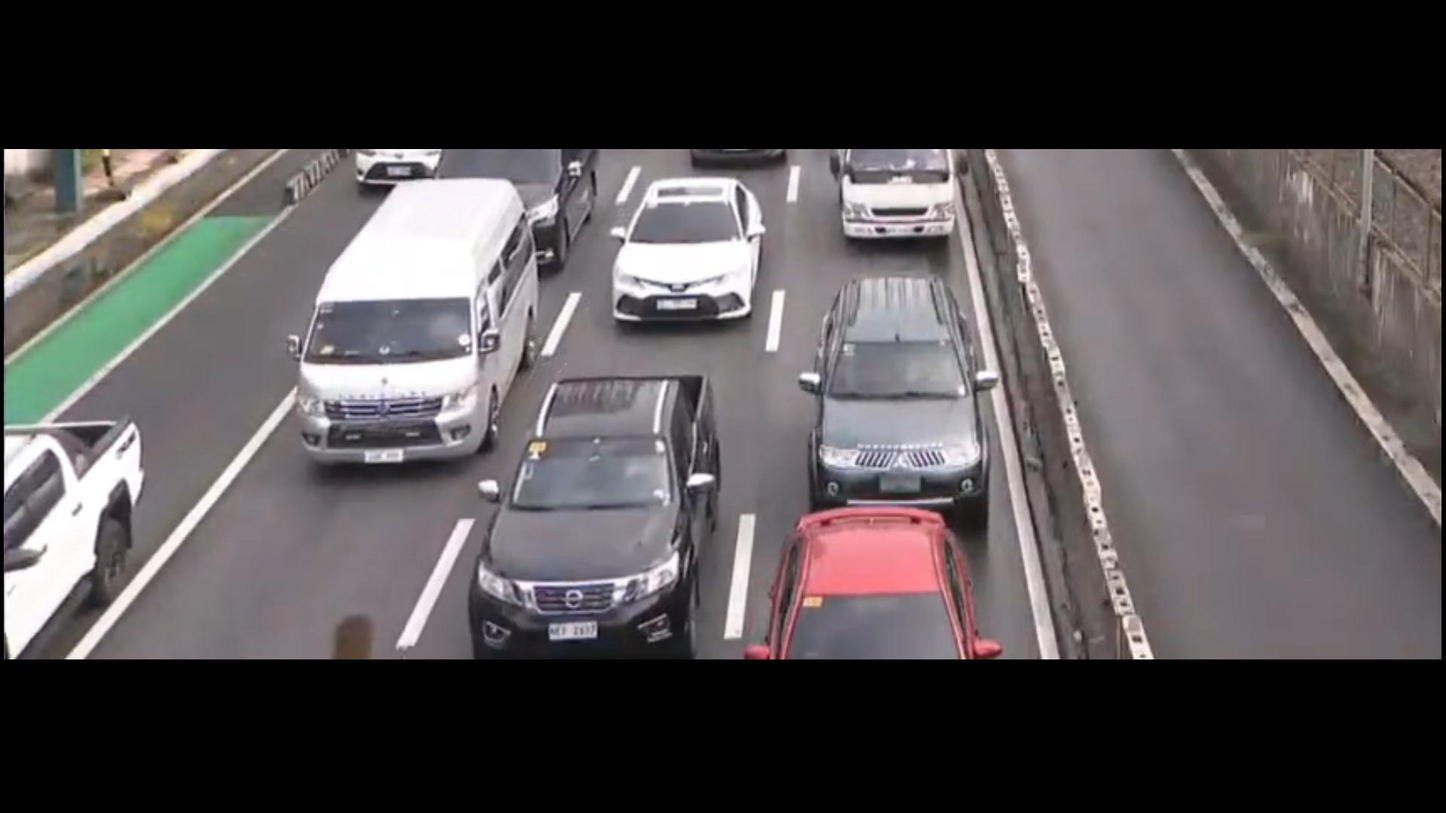SUV: (471, 376, 715, 649), (804, 282, 987, 516), (0, 420, 147, 651)
Sedan: (744, 506, 1004, 664), (606, 177, 768, 329)
Truck: (836, 143, 953, 250)
Van: (282, 181, 538, 469)
